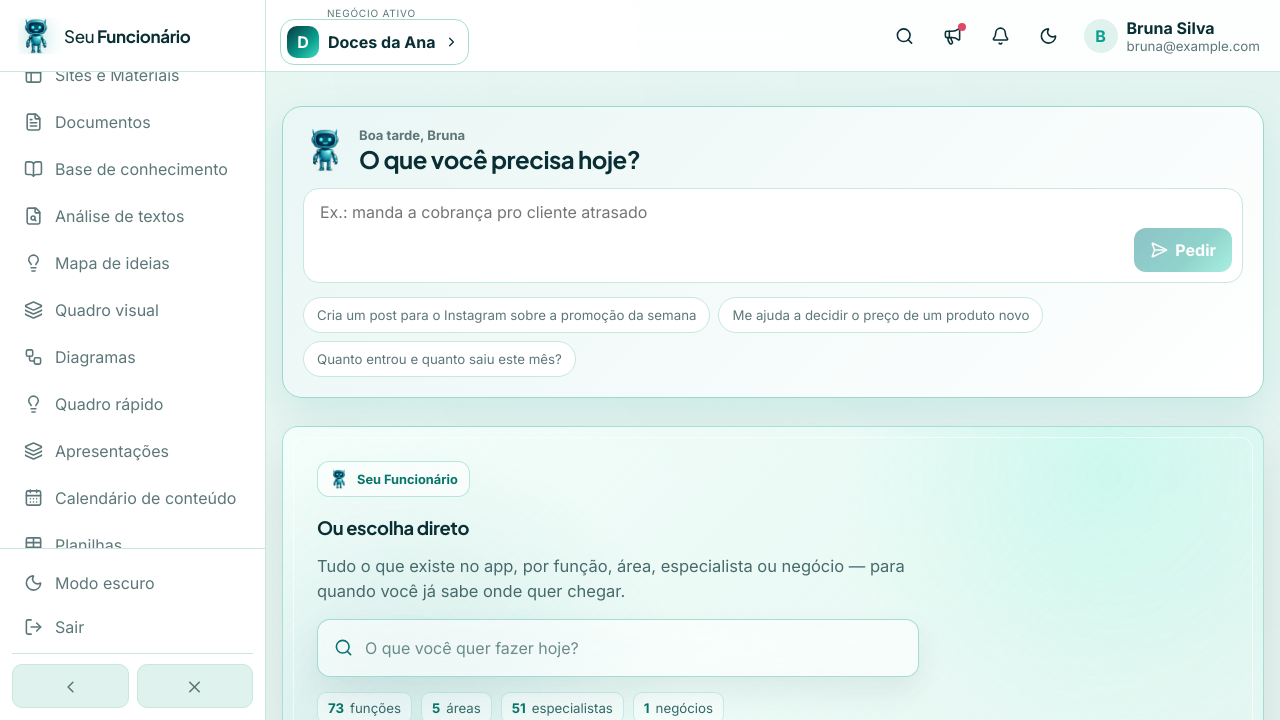
Test: Quadro visual › oferece os modelos visuais quando não há quadro
The width and height of the screenshot is (1280, 720).
(page scrolled)
Click the button "Quadro visual": (132, 310) x1=12 y1=288 x2=253 y2=332
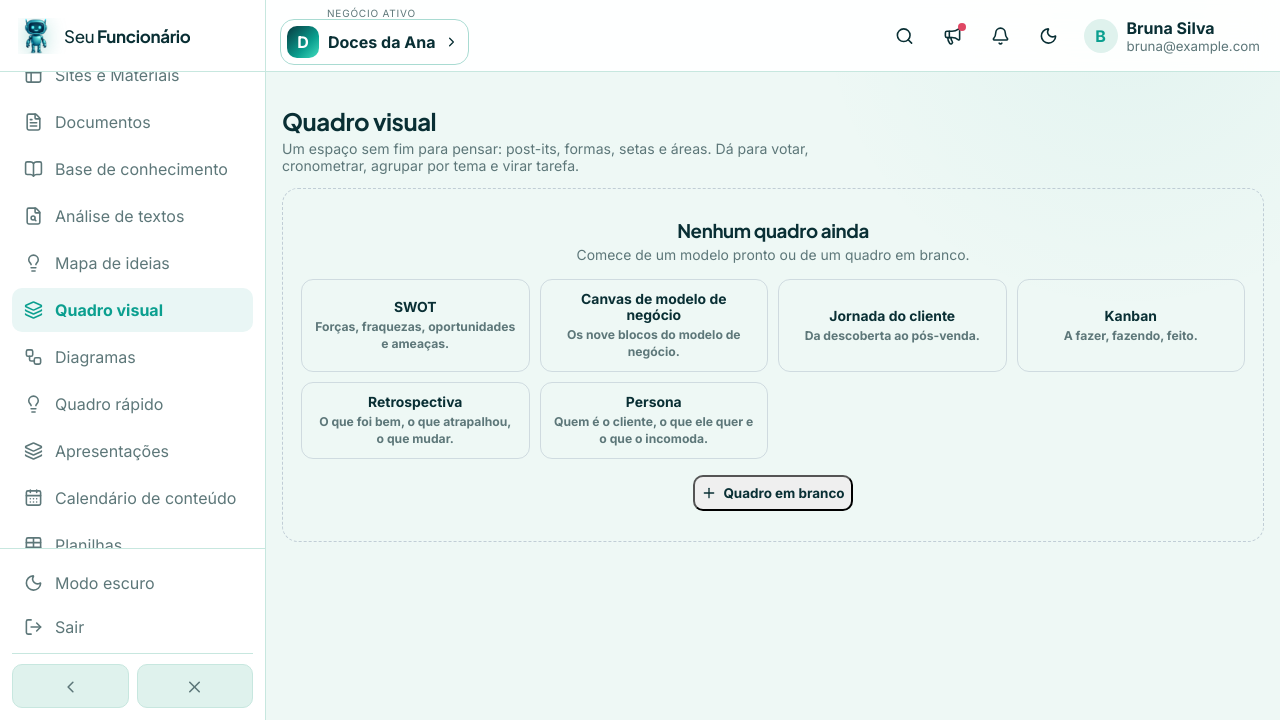
Expected: the element with class "cvs" is shown, x1=282 y1=106 x2=1264 y2=542
Expected: the heading "Nenhum quadro ainda" is shown, x1=677 y1=219 x2=869 y2=242
Expected: the text "SWOT" is shown, x1=394 y1=299 x2=437 y2=315
